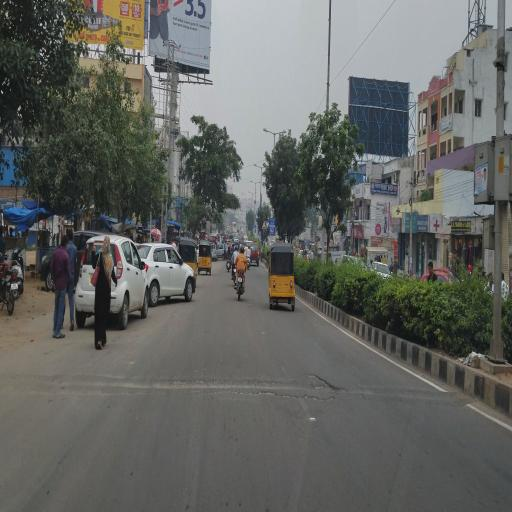street_light_0: (272, 122, 292, 140), (260, 120, 274, 138), (246, 174, 258, 188), (252, 157, 261, 171), (254, 174, 262, 188)
